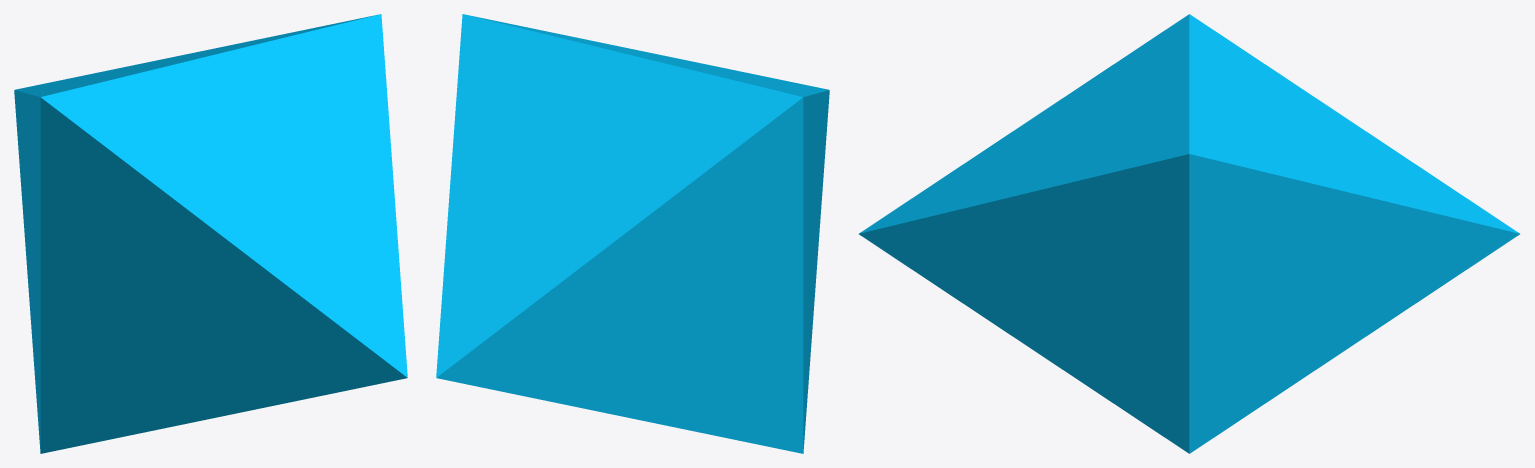
File: IceShard.fbx
3 views of the same model, side by side, from view 1: azimuth 30°, elevation 25°; view 2: azimuth 150°, elevation 25°; view 3: azimuth 270°, elevation 25° (orthographic). The views are drawn at different scales.
Parts seen in each view (by area): view 1: mergedBlocks; view 2: mergedBlocks; view 3: mergedBlocks.
Boxes of the visible parts, x1,y1,x2,y2 form: mergedBlocks: (14, 14, 407, 453); mergedBlocks: (436, 14, 829, 453); mergedBlocks: (859, 14, 1519, 453).
Size of the model in its own units: 10 by 10 by 20.
